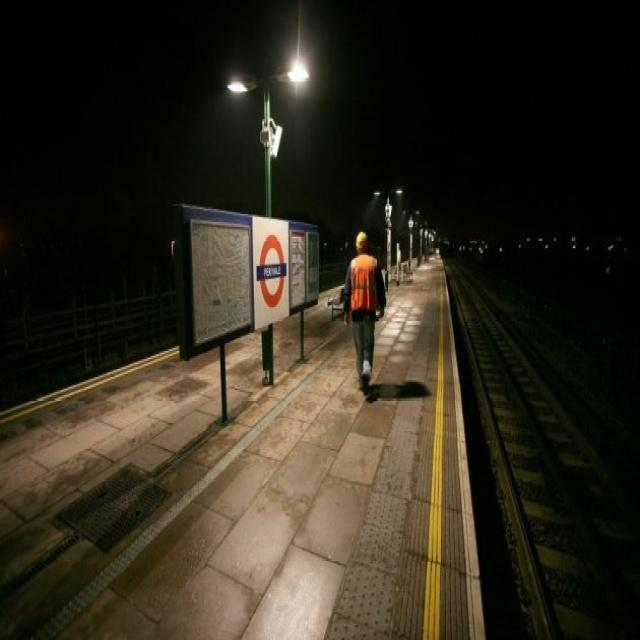helmet: (355, 308, 370, 344)
vest: (345, 347, 385, 429)
